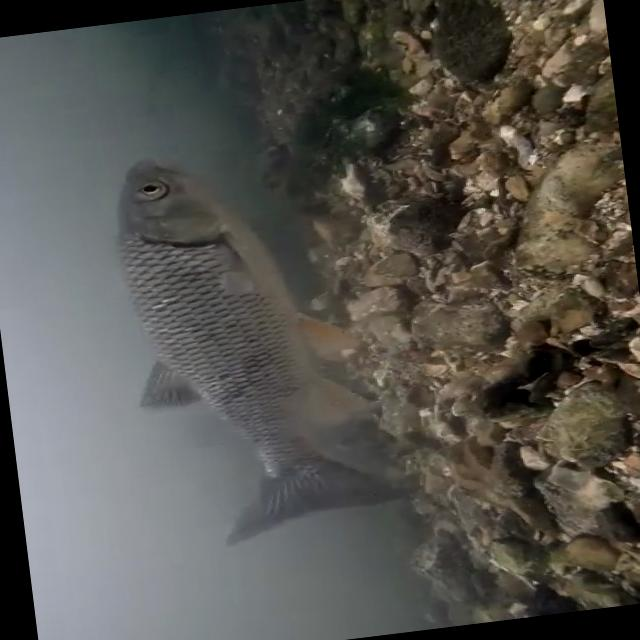Cakil Baligi: (96, 127, 427, 558)
